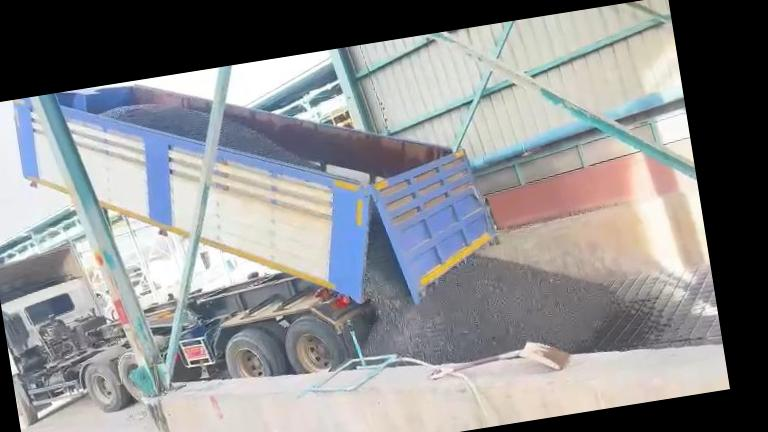gravel: (365, 213, 614, 363), (221, 117, 318, 167), (103, 103, 209, 140)
